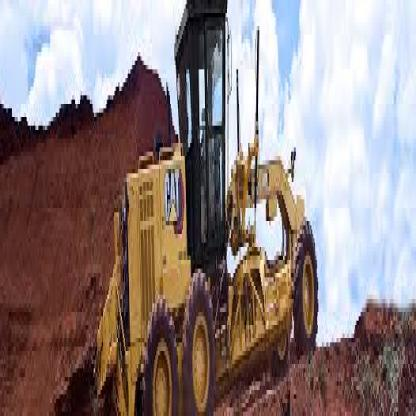bull_dozer/loader/grader: (103, 13, 323, 412)
